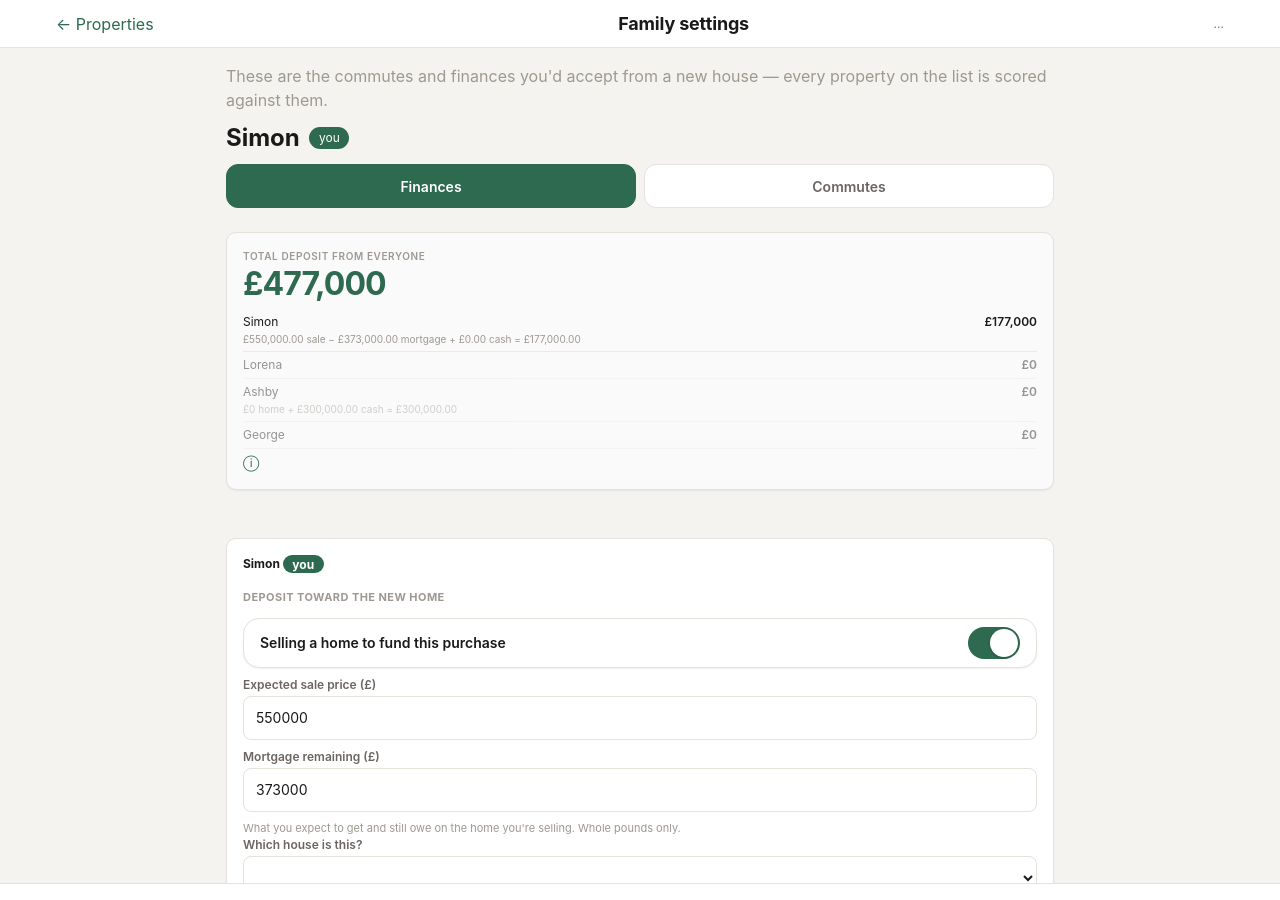
Test: SettingsView — ownership rendering › makes the own person editable — autosave, no save button
The width and height of the screenshot is (1280, 900).
Click the tab "Commutes": (849, 186) [644,164,1054,208]
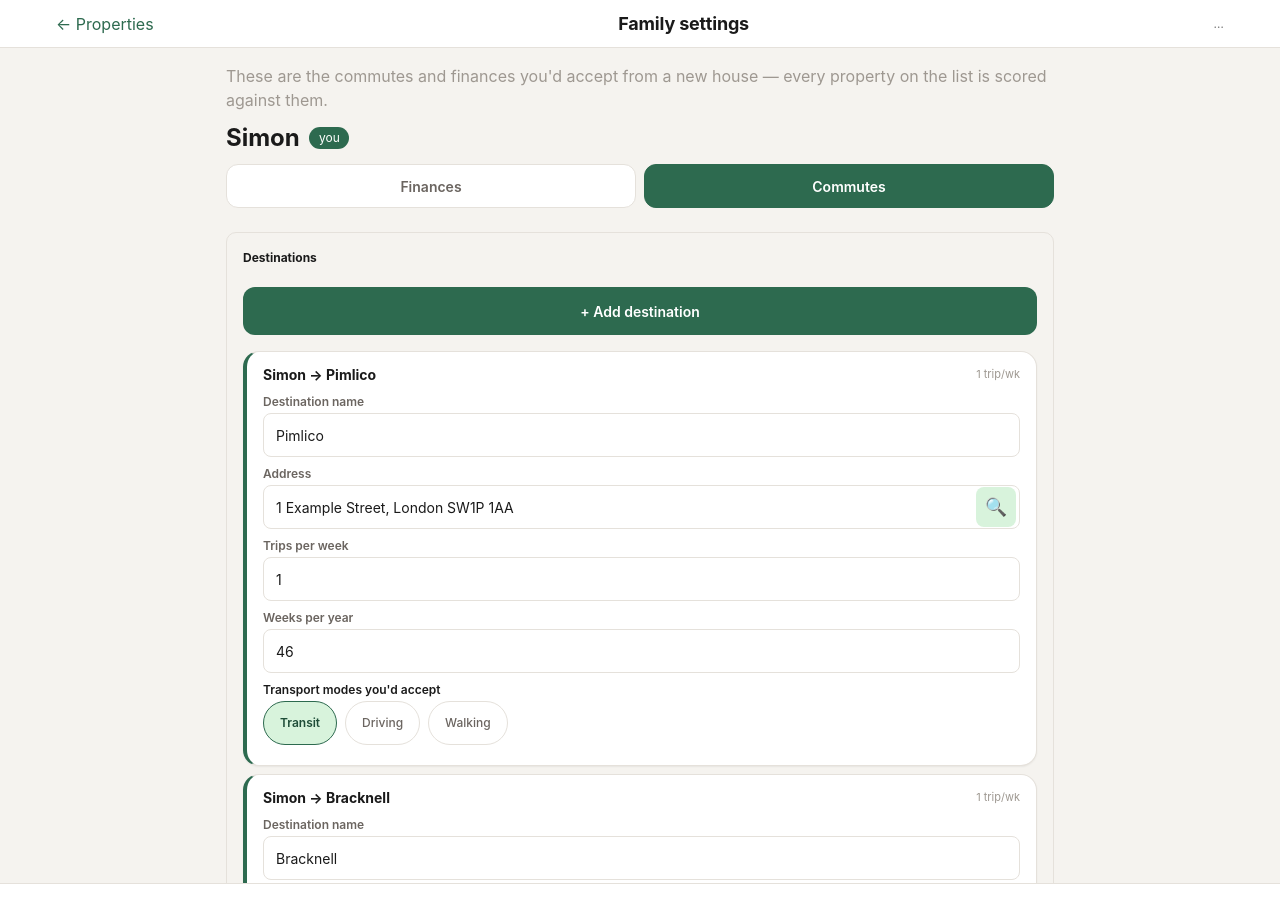
Expected: the button with class "mode-pill" showing "Walking" is enabled, [428,701,508,745]
